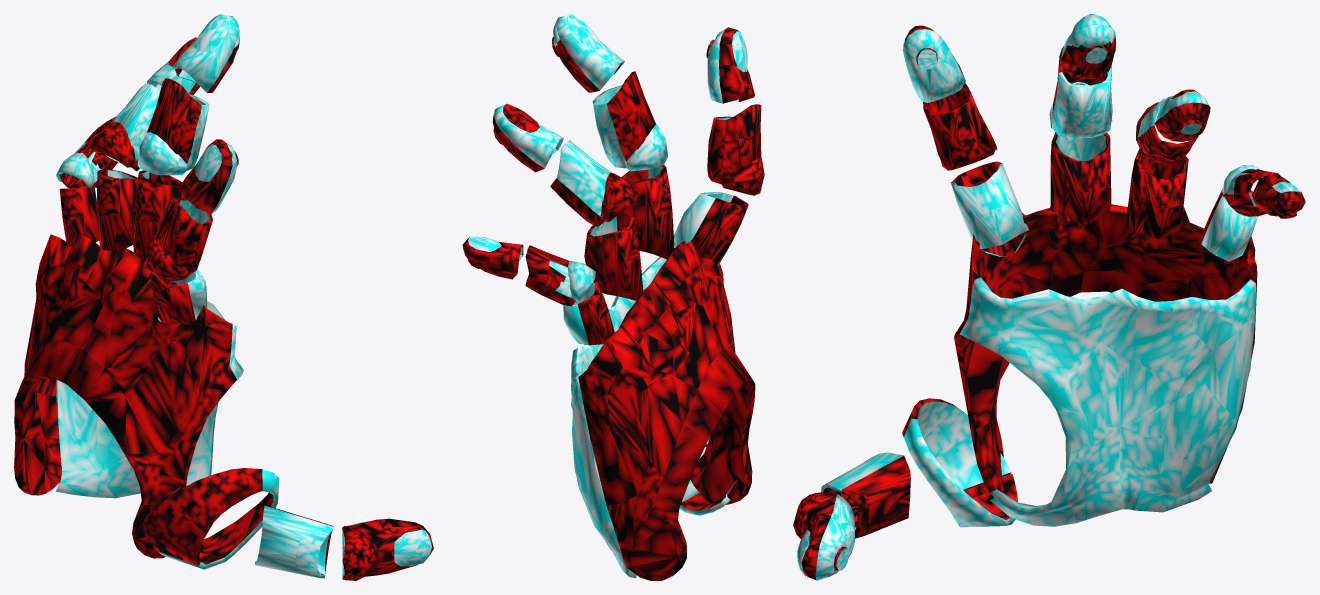
Rendered from SM_Fulminis_Hand_01_KMH.fbx.
3 views of the same model, side by side, from view 1: azimuth 30°, elevation 25°; view 2: azimuth 150°, elevation 25°; view 3: azimuth 270°, elevation 25° (orthographic). The views are drawn at different scales.
Visible parts, largest first — view 1: SM_Fulminis_Hand_01_KMH; view 2: SM_Fulminis_Hand_01_KMH; view 3: SM_Fulminis_Hand_01_KMH.
Part boxes in pixels (x1,y1,x2,y2): SM_Fulminis_Hand_01_KMH: (14,14,433,580); SM_Fulminis_Hand_01_KMH: (462,14,764,580); SM_Fulminis_Hand_01_KMH: (793,14,1305,580).
Bounding box in the file's own units: 12.53 × 23.21 × 19.67.
